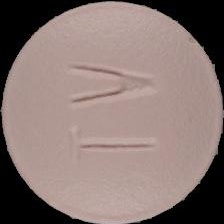0093-7153: (0, 0, 224, 224)
